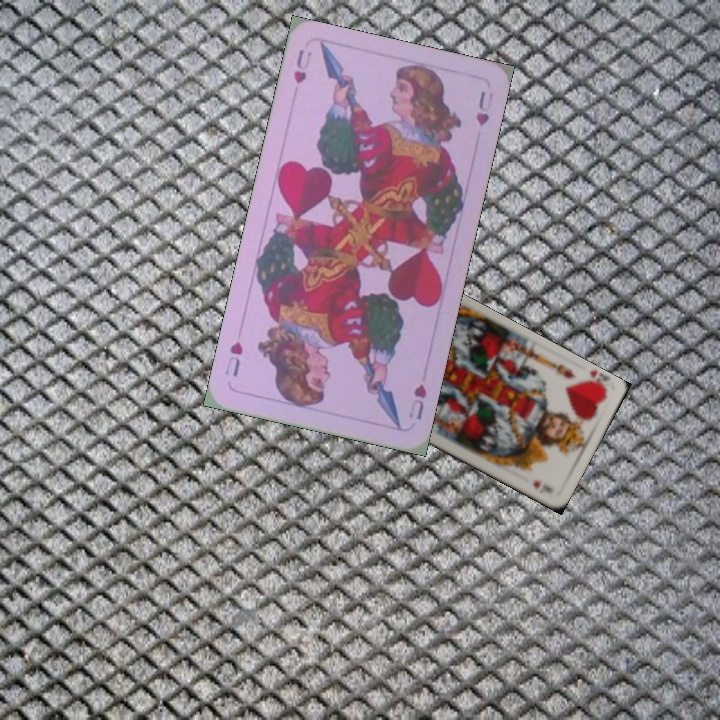HK: (580, 367, 612, 396)
HU: (404, 380, 429, 423), (289, 46, 314, 87)
